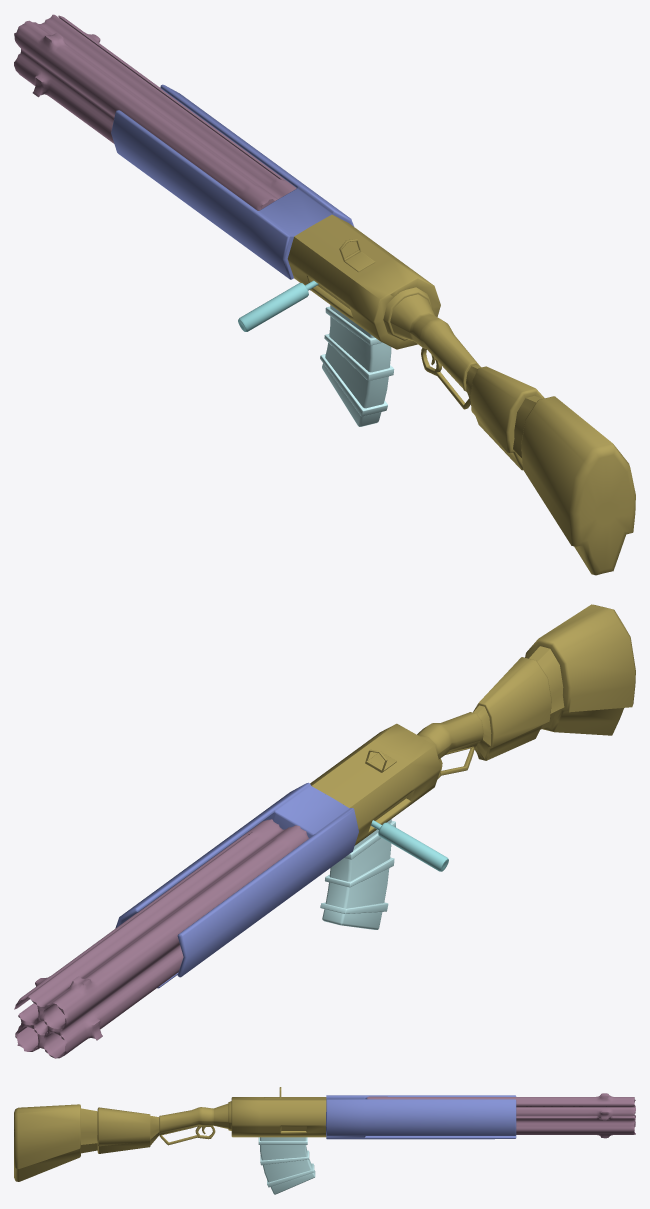
The picture shows the model from 3 angles, top to bottom: view 1: azimuth 30°, elevation 25°; view 2: azimuth 150°, elevation 25°; view 3: azimuth 270°, elevation 25°; orthographic projection. The views are drawn at different scales.
Parts seen in each view (by area): view 1: Stock_lambert1_0, Quad_Rotating_Barrels3_lambert1_0, Barrel_Holder_lambert1_0, Magazine_lambert1_0, Lever_Pump_lambert1_0; view 2: Stock_lambert1_0, Quad_Rotating_Barrels3_lambert1_0, Barrel_Holder_lambert1_0, Magazine_lambert1_0, Lever_Pump_lambert1_0; view 3: Stock_lambert1_0, Barrel_Holder_lambert1_0, Quad_Rotating_Barrels3_lambert1_0, Magazine_lambert1_0.
Part boxes in pixels (left/top/right/bottom): Stock_lambert1_0: left=287, top=214, right=635, bottom=575; Quad_Rotating_Barrels3_lambert1_0: left=14, top=14, right=296, bottom=210; Barrel_Holder_lambert1_0: left=111, top=84, right=354, bottom=290; Magazine_lambert1_0: left=320, top=305, right=394, bottom=426; Lever_Pump_lambert1_0: left=238, top=280, right=318, bottom=331; Stock_lambert1_0: left=310, top=604, right=635, bottom=845; Quad_Rotating_Barrels3_lambert1_0: left=14, top=819, right=308, bottom=1058; Barrel_Holder_lambert1_0: left=115, top=782, right=358, bottom=988; Magazine_lambert1_0: left=320, top=819, right=395, bottom=929; Lever_Pump_lambert1_0: left=371, top=820, right=448, bottom=871; Stock_lambert1_0: left=14, top=1087, right=326, bottom=1181; Barrel_Holder_lambert1_0: left=325, top=1095, right=516, bottom=1139; Quad_Rotating_Barrels3_lambert1_0: left=367, top=1093, right=635, bottom=1138; Magazine_lambert1_0: left=258, top=1137, right=315, bottom=1194.
Size of the model in its own units: 0.1444 by 0.1792 by 1.
